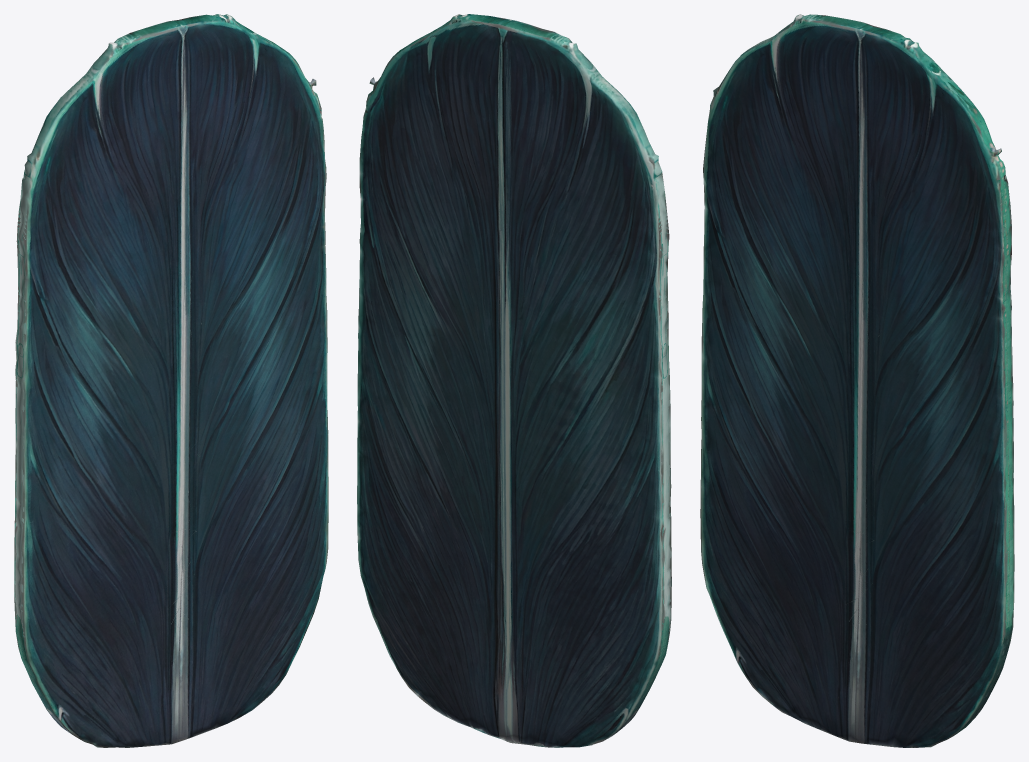
File: Feather.fbx
3 views of the same model, side by side, from view 1: azimuth 30°, elevation 25°; view 2: azimuth 150°, elevation 25°; view 3: azimuth 330°, elevation 25° (orthographic).
Visible parts, largest first — view 1: texture_mapping; view 2: texture_mapping; view 3: texture_mapping.
Part boxes in pixels (<box>): texture_mapping: <box>14,14,328,747</box>; texture_mapping: <box>357,14,671,747</box>; texture_mapping: <box>700,14,1014,747</box>.
Bounding box in the file's own units: 0.4417 × 0.0259 × 0.9889.
Materials: 1 (1 with a texture image).
